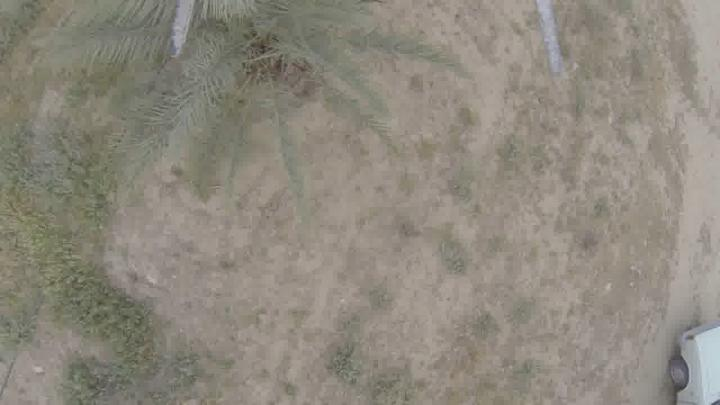Date-Palm-Crown: (122, 1, 362, 134)
